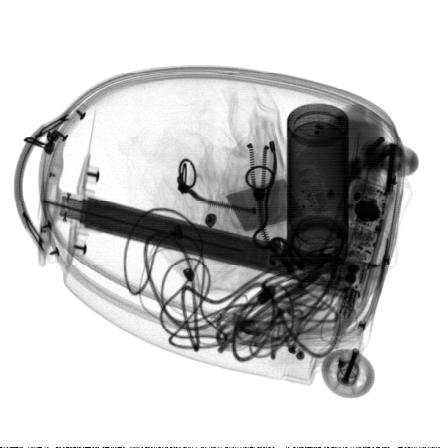Powerbank: (218, 168, 332, 236)
